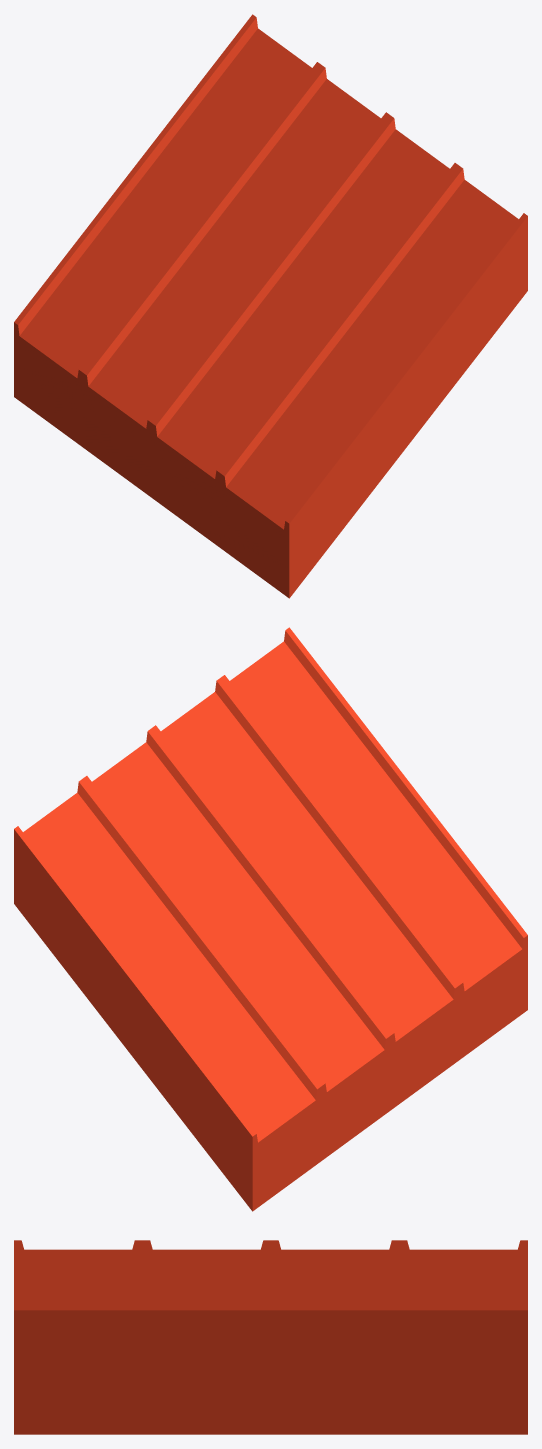
File: roof-metal-regular-2x1m.fbx
The picture shows the model from 3 angles, top to bottom: view 1: azimuth 30°, elevation 25°; view 2: azimuth 150°, elevation 25°; view 3: azimuth 270°, elevation 25°; orthographic projection. The views are drawn at different scales.
Parts seen in each view (by area): view 1: roof-metal-regular-2x1m; view 2: roof-metal-regular-2x1m; view 3: roof-metal-regular-2x1m.
Part boxes in pixels (x1=…): roof-metal-regular-2x1m: x1=14, y1=14, x2=527, y2=598; roof-metal-regular-2x1m: x1=14, y1=627, x2=527, y2=1211; roof-metal-regular-2x1m: x1=14, y1=1240, x2=527, y2=1434.
Bounding box in the file's own units: 1 × 1.3 × 2.
